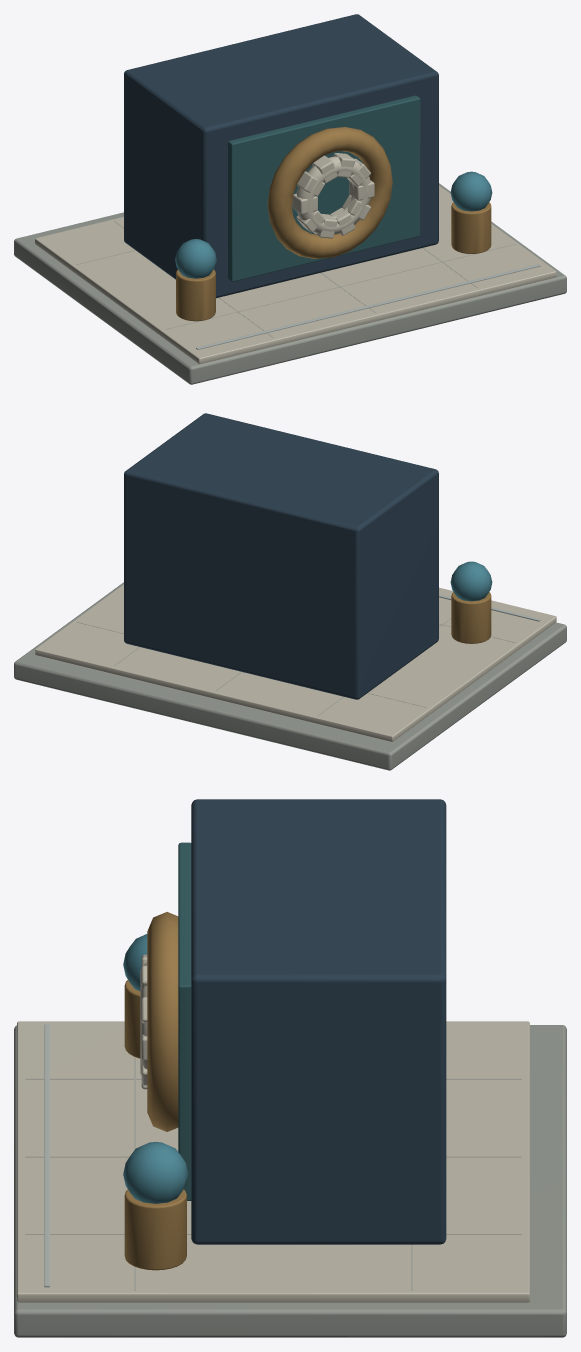
The model's file is idea-6958ee05.glb.
The picture shows the model from 3 angles, top to bottom: view 1: azimuth 30°, elevation 25°; view 2: azimuth 150°, elevation 25°; view 3: azimuth 270°, elevation 25°; orthographic projection. The views are drawn at different scales.
Visible parts, largest first — view 1: Karmic Games Vault; view 2: Karmic Games Vault; view 3: Karmic Games Vault.
Boxes of the visible parts, x1,y1,x2,y2 form: Karmic Games Vault: (14,14,566,384); Karmic Games Vault: (14,413,566,770); Karmic Games Vault: (14,799,566,1337).
Size of the model in its own units: 4.8 by 2.4 by 3.9.
